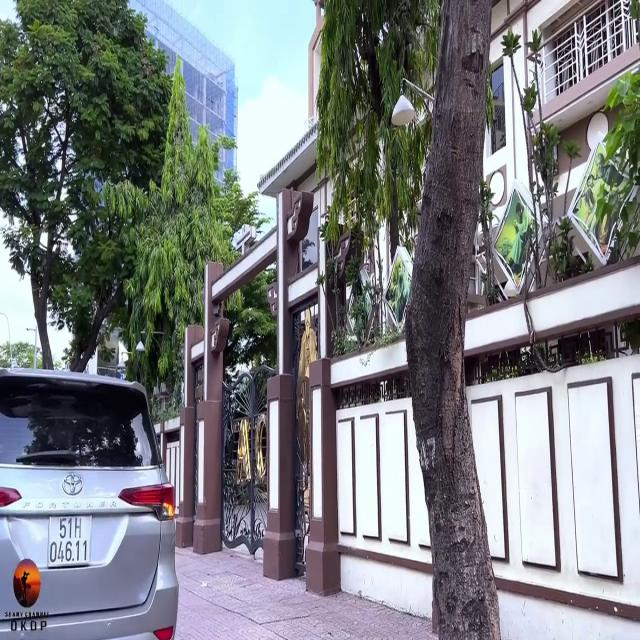bien_trang: (47, 513, 90, 567)
